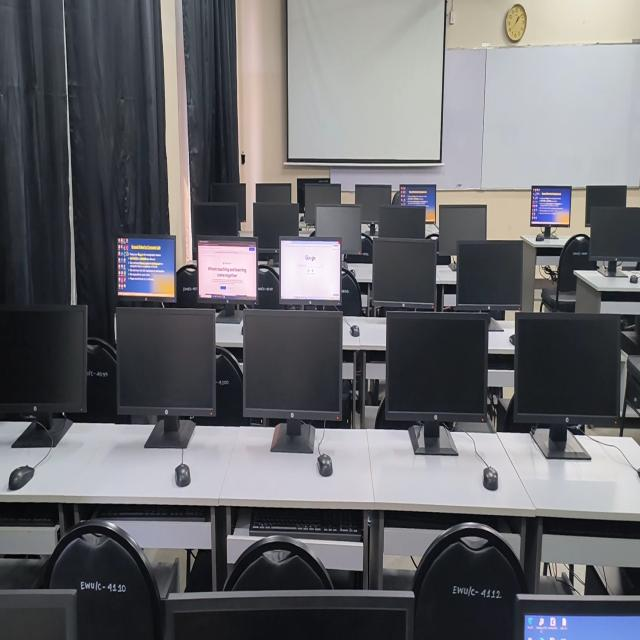Chair: (44, 521, 161, 639), (412, 523, 527, 639), (224, 535, 333, 591), (196, 347, 250, 426), (541, 234, 596, 311), (68, 338, 118, 422), (340, 267, 364, 316), (256, 265, 280, 309), (176, 264, 198, 308)
Keyboard: (249, 509, 362, 542)
Monitor: (514, 312, 620, 459), (384, 312, 488, 455), (116, 308, 216, 452), (243, 310, 343, 453), (163, 591, 414, 639), (0, 306, 87, 412), (456, 241, 523, 319), (370, 238, 436, 316), (280, 238, 341, 303), (198, 237, 257, 303), (117, 236, 176, 301), (0, 589, 76, 639), (524, 614, 640, 639), (588, 207, 640, 261), (438, 205, 486, 255), (316, 205, 361, 254), (530, 185, 571, 238), (253, 202, 299, 249), (586, 185, 627, 226), (378, 205, 425, 239), (304, 183, 341, 224), (210, 183, 246, 222), (355, 185, 391, 221), (297, 178, 330, 214), (399, 184, 436, 213), (255, 183, 291, 202), (209, 220, 213, 224)
Mouse: (8, 465, 34, 489), (483, 465, 498, 491), (175, 463, 190, 487), (317, 453, 332, 476), (350, 325, 360, 337), (629, 274, 638, 283), (536, 233, 545, 241)
